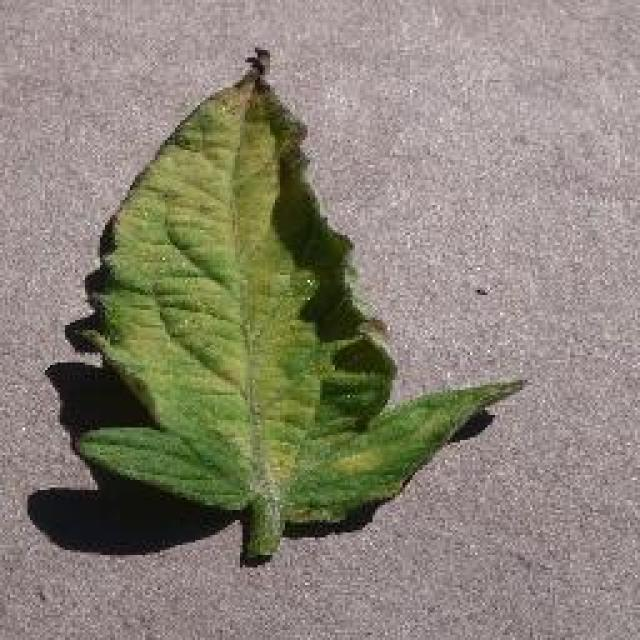Tomato___Leaf_Mold: (75, 50, 520, 562)
